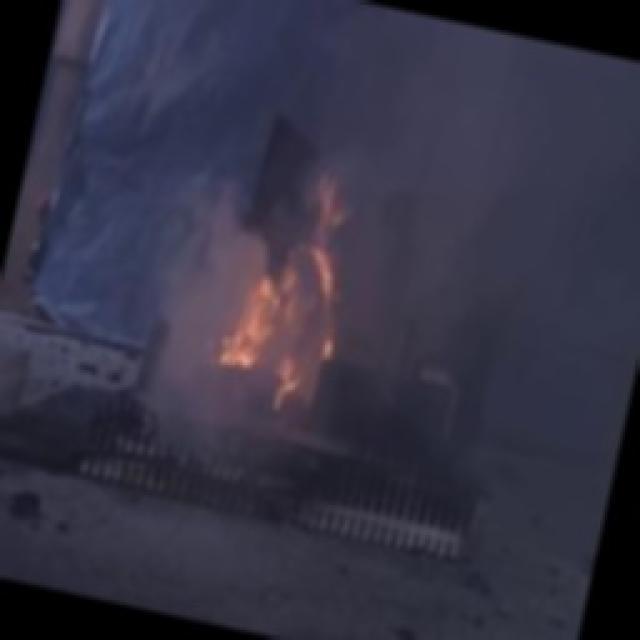fire: (199, 196, 381, 439)
